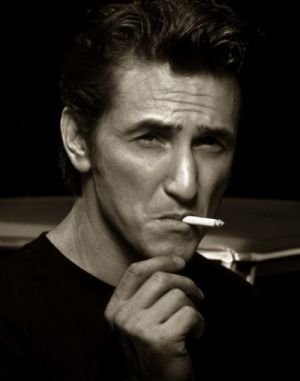cigarette: (179, 210, 226, 232)
